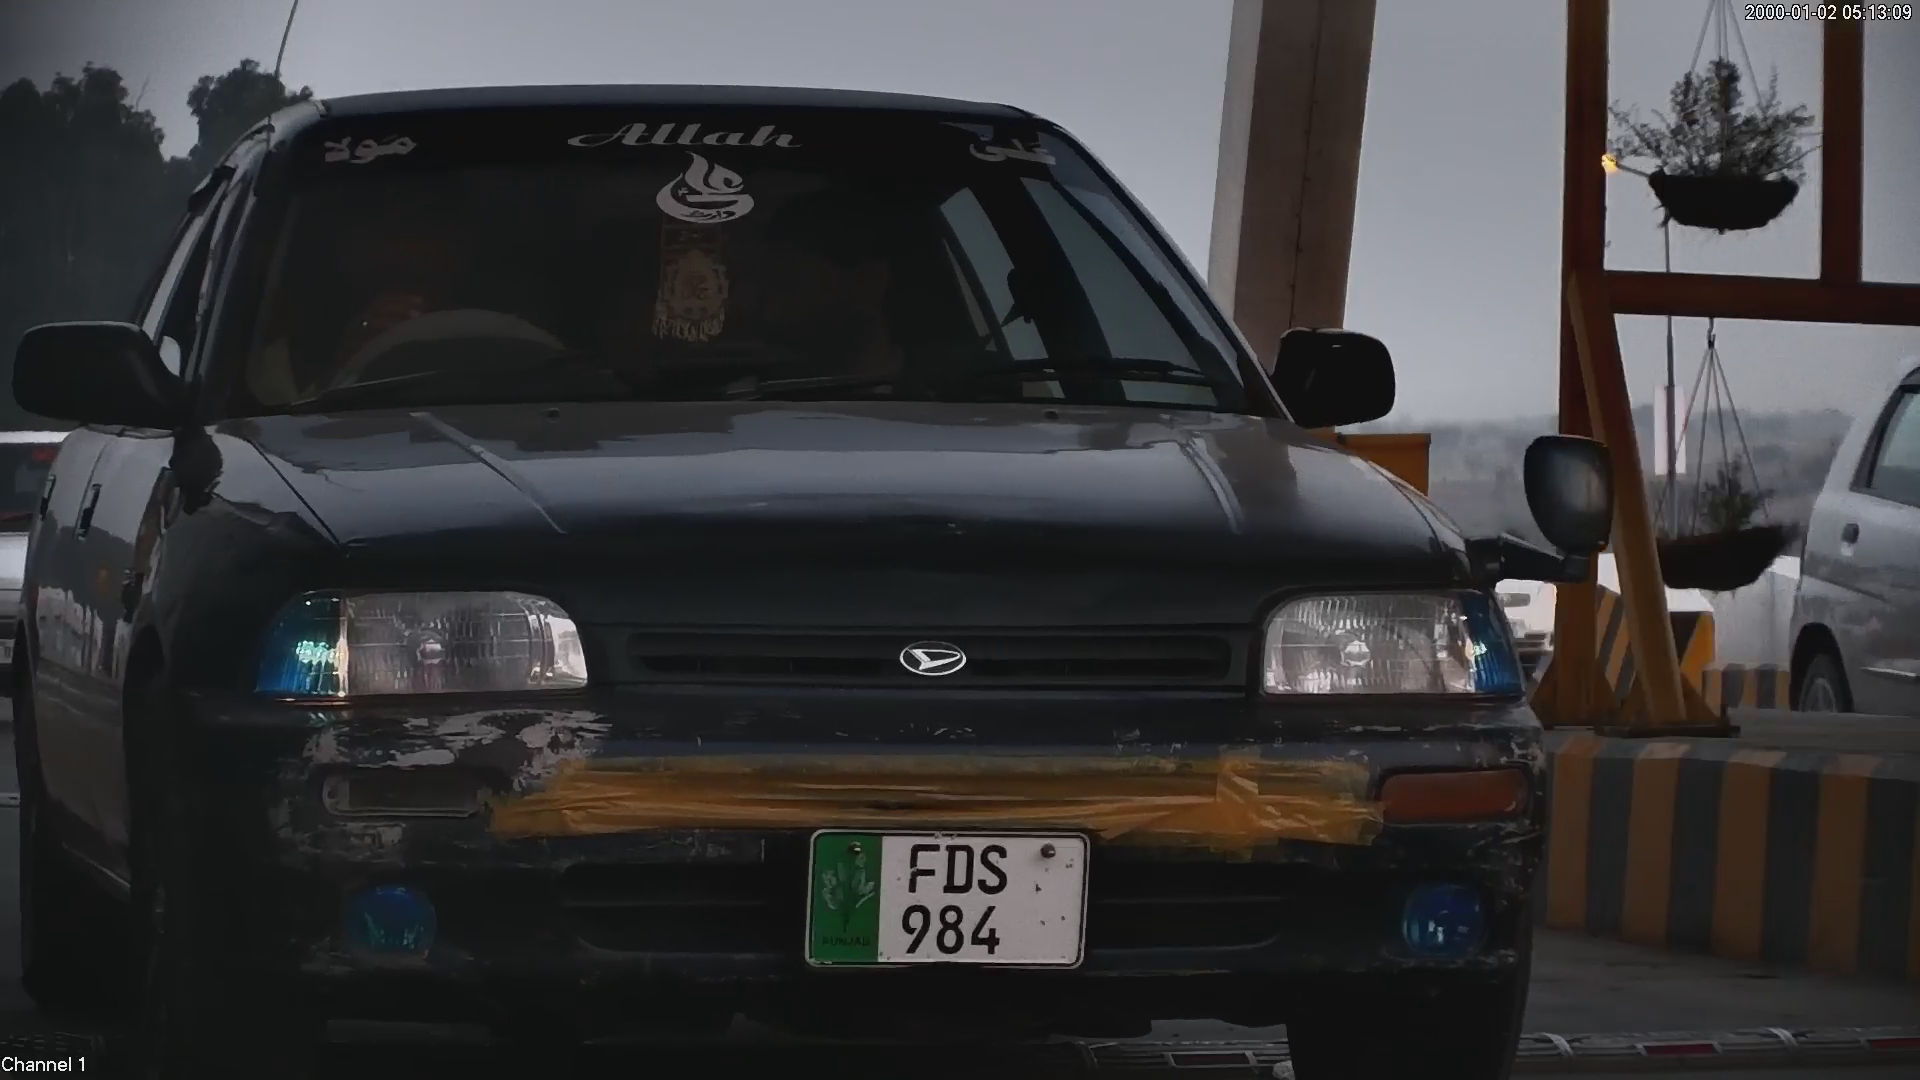Number_Plate: (801, 814, 1098, 983)
